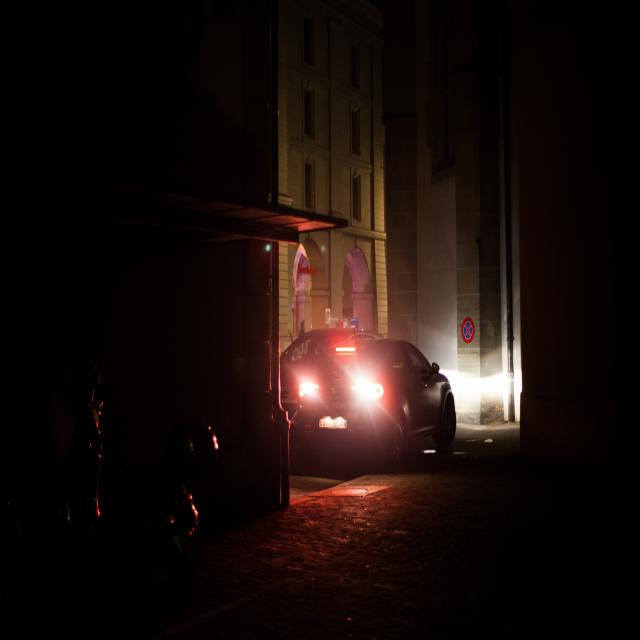Car: (286, 319, 466, 485)
Motorbike: (55, 381, 235, 580)
